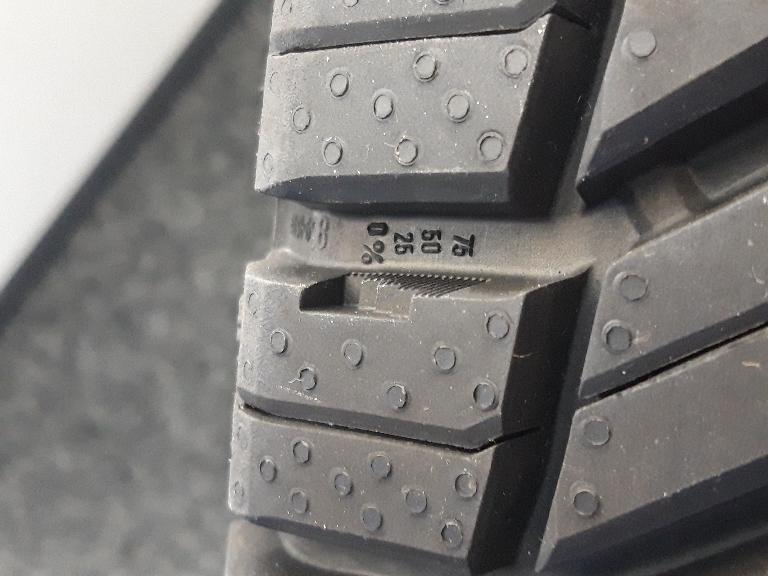temoin:100: (292, 263, 497, 332)
